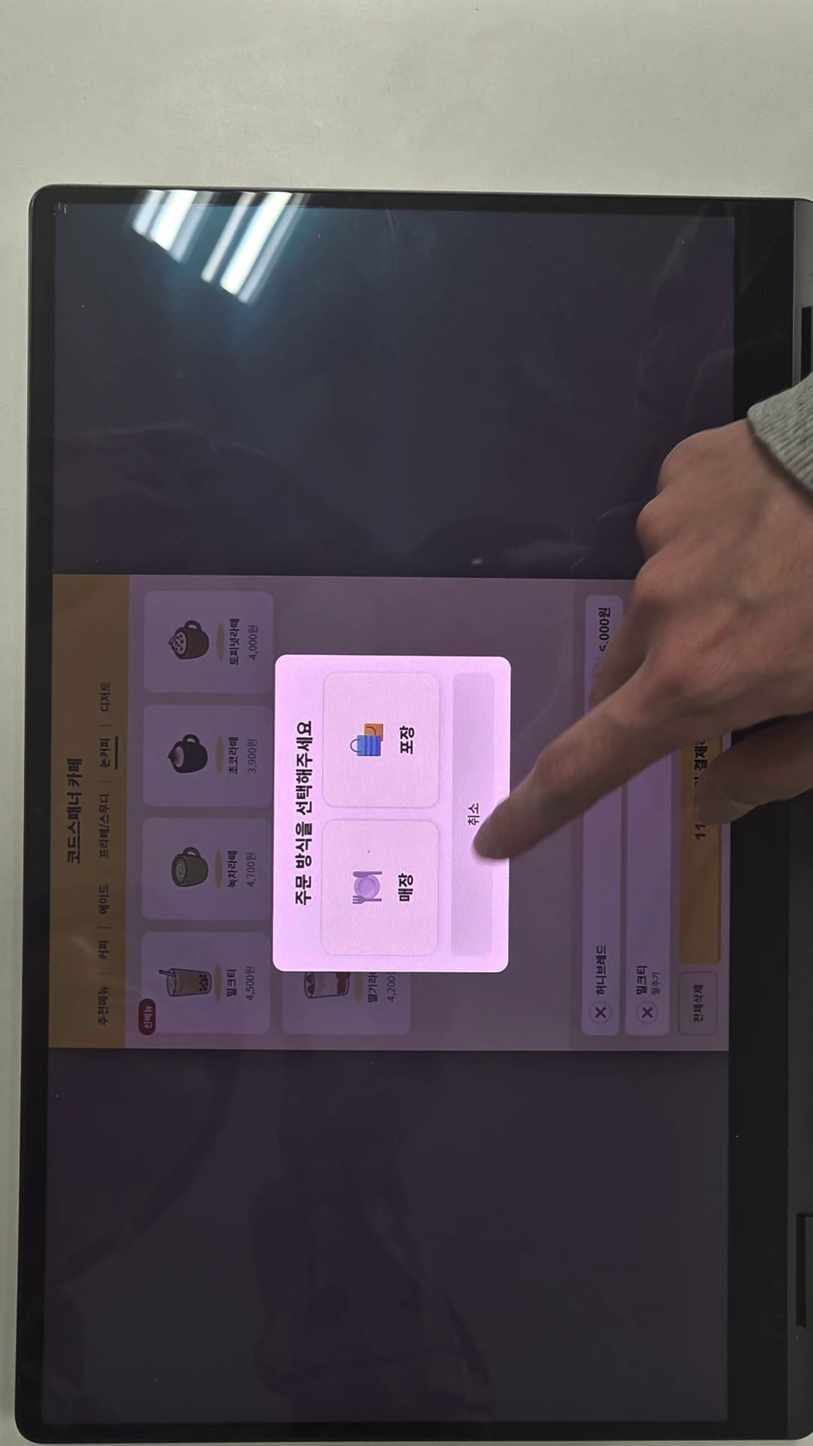action_button: (453, 672, 492, 954)
option_button: (324, 671, 438, 807), (323, 821, 438, 954)
popup_modal: (275, 655, 508, 973)
